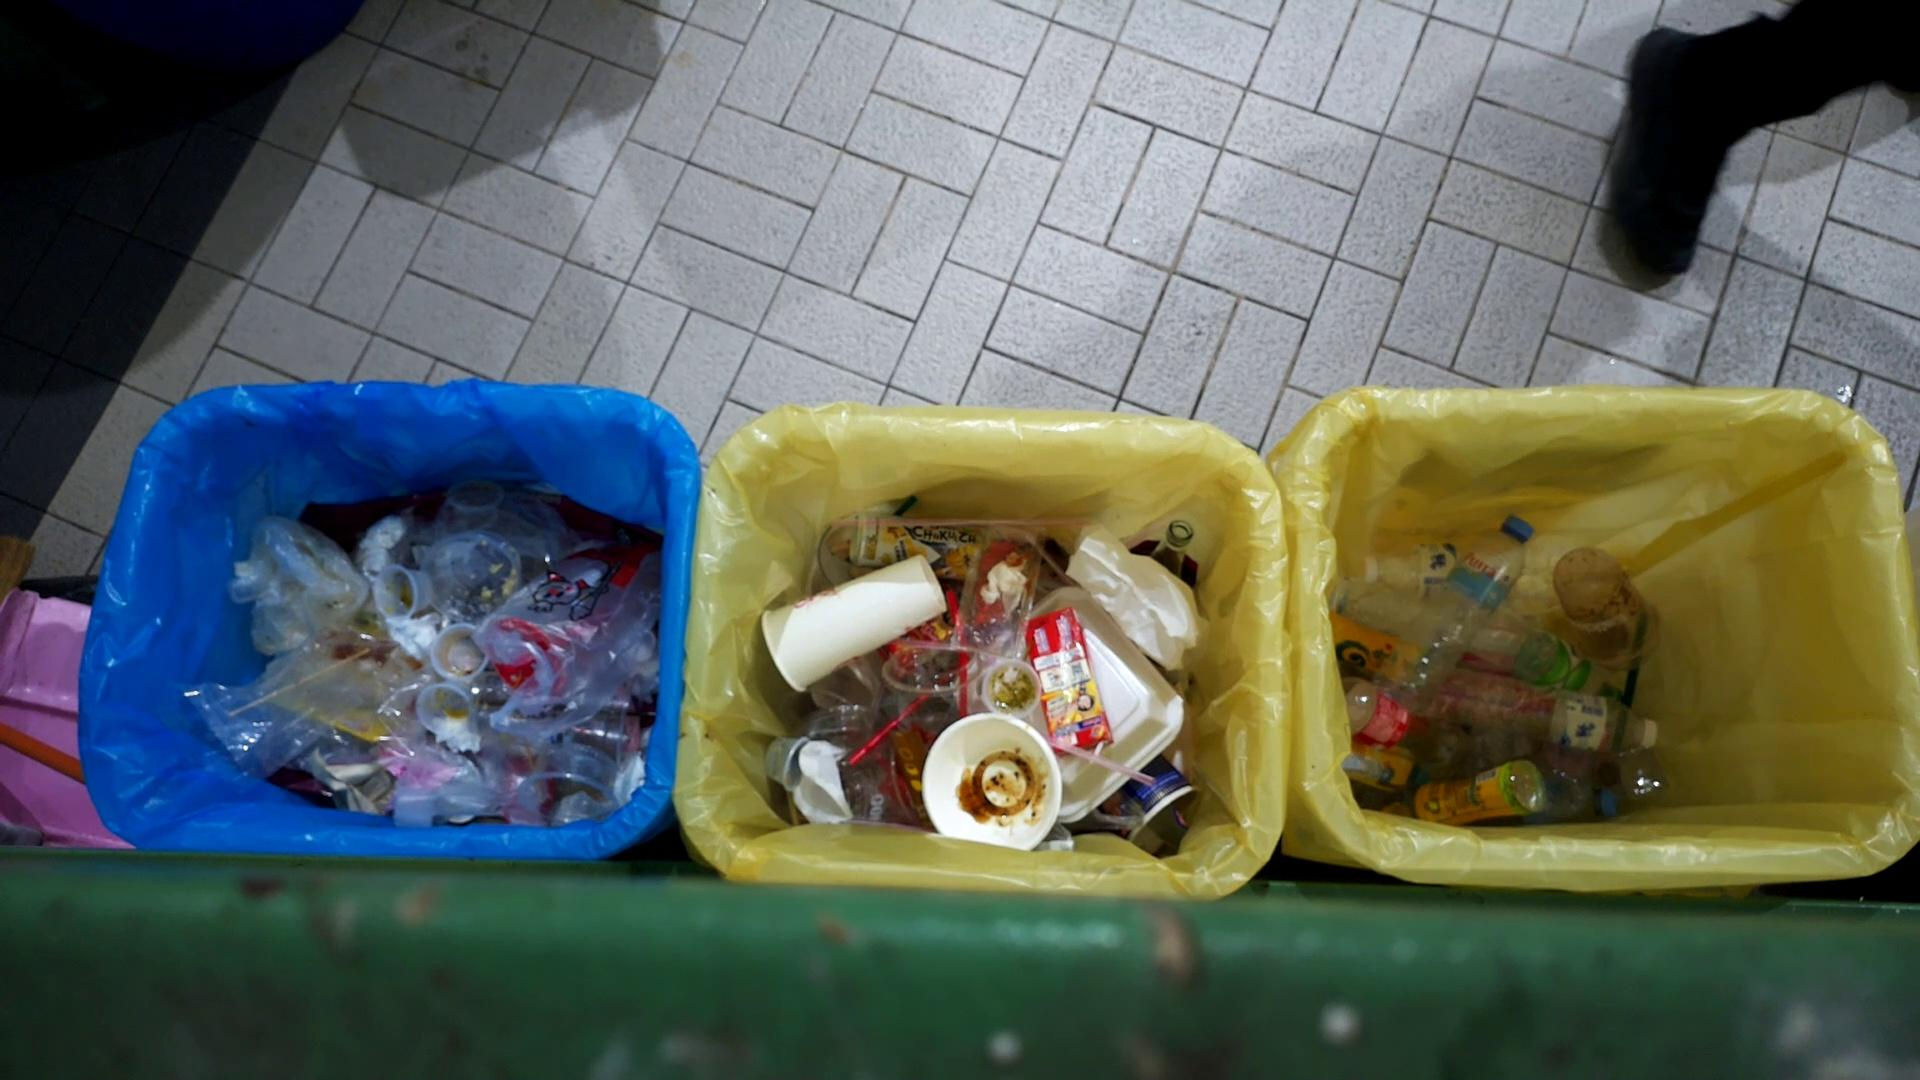can: (844, 508, 990, 579)
filled plastic bag: (475, 537, 667, 729)
food container: (918, 709, 1063, 853), (413, 525, 524, 629), (509, 732, 625, 825), (369, 563, 434, 626), (982, 655, 1046, 720), (411, 682, 473, 741), (434, 621, 493, 680), (761, 731, 814, 796)
milk carton: (1026, 611, 1114, 758)
plastic bag: (164, 624, 439, 773), (1062, 518, 1209, 674), (223, 505, 372, 644), (375, 716, 542, 831)
plastic bottle: (1370, 512, 1535, 717), (1447, 667, 1662, 760), (1468, 604, 1627, 703), (1379, 756, 1548, 828)
plastic cup: (1552, 542, 1669, 671), (881, 642, 989, 749)
sticks: (218, 647, 369, 712)
straw: (848, 658, 961, 765), (1043, 735, 1159, 789), (823, 516, 1096, 531), (1089, 736, 1106, 764)
tissue paper: (795, 736, 856, 825), (385, 608, 440, 669), (426, 709, 479, 758)
zero waste cup: (760, 551, 948, 694)
